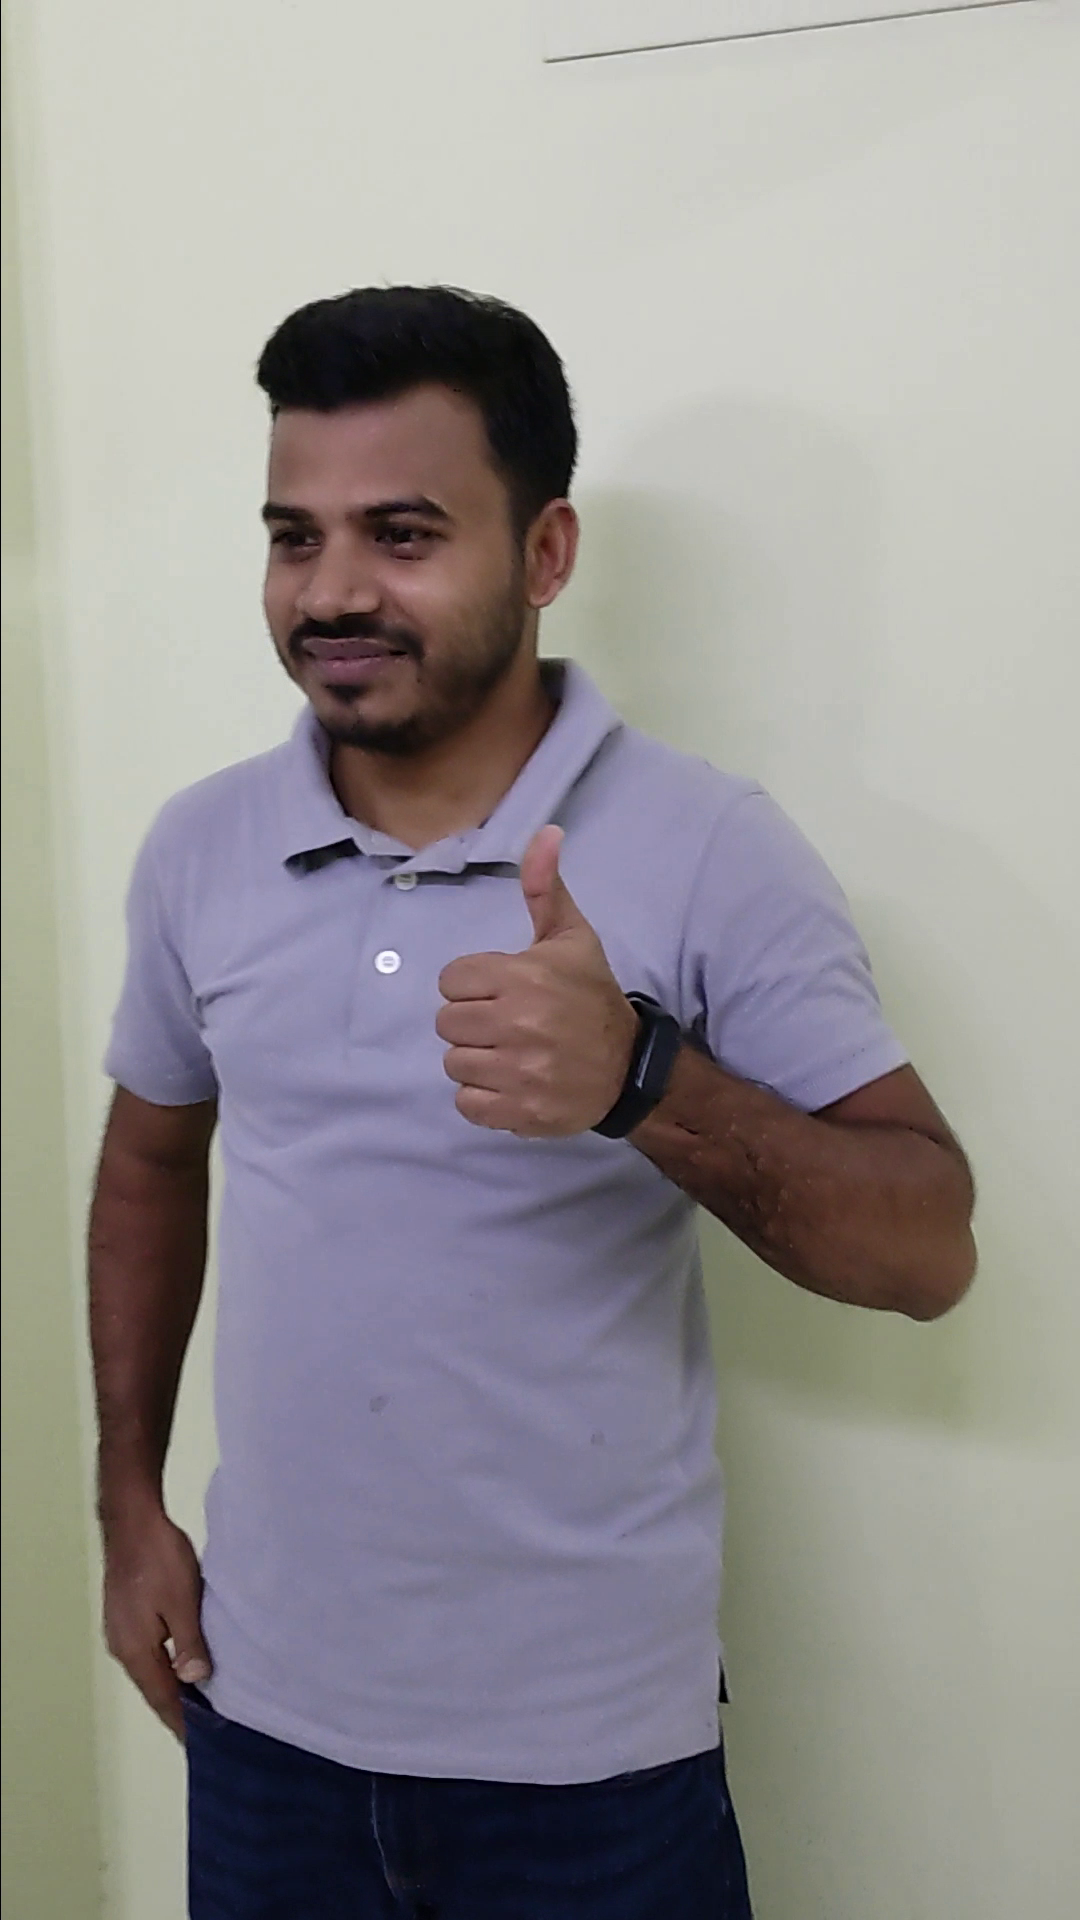Like: (419, 814, 659, 1153)
None: (75, 1462, 222, 1756)
